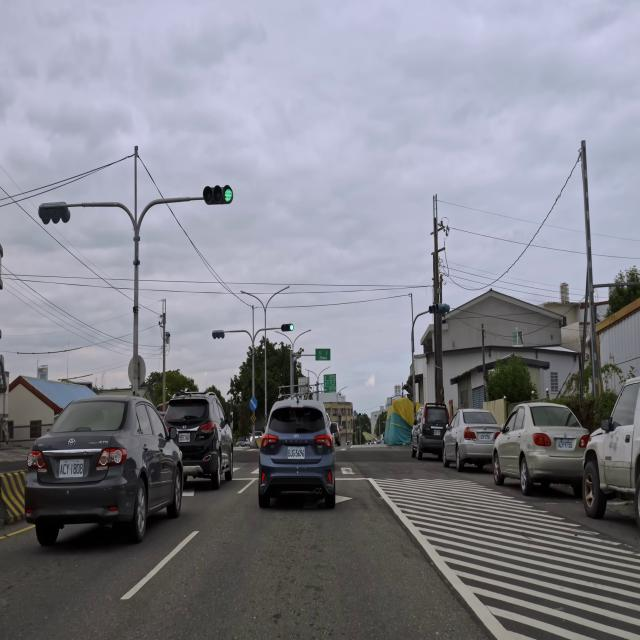green light: (203, 184, 233, 205), (281, 322, 293, 332)
